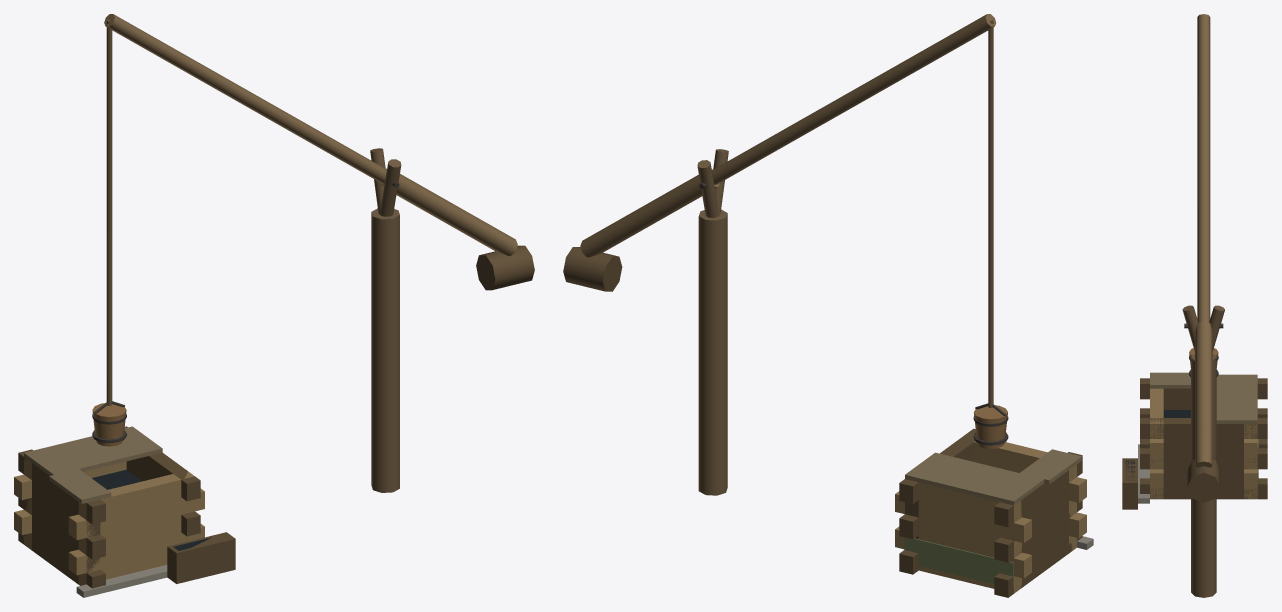
The model's file is krynytsia.glb.
3 renders of one model, left to right at view 1: azimuth 30°, elevation 25°; view 2: azimuth 150°, elevation 25°; view 3: azimuth 270°, elevation 25°, orthographic. The views are drawn at different scales.
Visible parts, largest first — view 1: log (×12), post, beam_long, lid, beam_short, pole, trough, weight, shelf, stones, bucket, fork_s; view 2: log (×11), post, beam_long, lid, beam_short, moss, pole, weight, shelf, bucket, fork_n; view 3: log (×12), beam_long, post, beam_short, lid, weight, trough, shelf, fork_n, fork_s, stones, water.
Boxes of the visible parts, left/top/right/bottom form: log (×12): left=14, top=426, right=204, bottom=588; post: left=371, top=208, right=399, bottom=492; beam_long: left=104, top=14, right=386, bottom=183; lid: left=24, top=426, right=162, bottom=475; beam_short: left=379, top=168, right=517, bottom=255; pole: left=106, top=19, right=112, bottom=405; trough: left=167, top=532, right=235, bottom=583; weight: left=476, top=245, right=534, bottom=290; shelf: left=49, top=469, right=111, bottom=503; stones: left=76, top=565, right=167, bottom=597; bucket: left=92, top=403, right=126, bottom=446; fork_s: left=380, top=159, right=401, bottom=216; log (×11): left=895, top=428, right=1082, bottom=597; post: left=698, top=209, right=727, bottom=495; beam_long: left=712, top=14, right=996, bottom=184; lid: left=905, top=452, right=1044, bottom=505; beam_short: left=580, top=169, right=719, bottom=257; moss: left=904, top=537, right=1013, bottom=588; pole: left=988, top=19, right=993, bottom=407; weight: left=563, top=247, right=622, bottom=291; shelf: left=1020, top=449, right=1081, bottom=484; bucket: left=973, top=405, right=1007, bottom=448; fork_n: left=697, top=160, right=718, bottom=217; log (×12): left=1140, top=378, right=1267, bottom=499; beam_long: left=1197, top=14, right=1210, bottom=322; post: left=1191, top=353, right=1216, bottom=597; beam_short: left=1195, top=322, right=1212, bottom=467; lid: left=1216, top=374, right=1257, bottom=423; weight: left=1187, top=459, right=1220, bottom=502; trough: left=1122, top=458, right=1137, bottom=509; shelf: left=1150, top=372, right=1190, bottom=388; fork_n: left=1209, top=305, right=1224, bottom=351; fork_s: left=1182, top=305, right=1198, bottom=351; stones: left=1138, top=444, right=1149, bottom=503; water: left=1163, top=410, right=1190, bottom=417.
Bounding box in the file's own units: 4.86 × 5.22 × 1.48.
